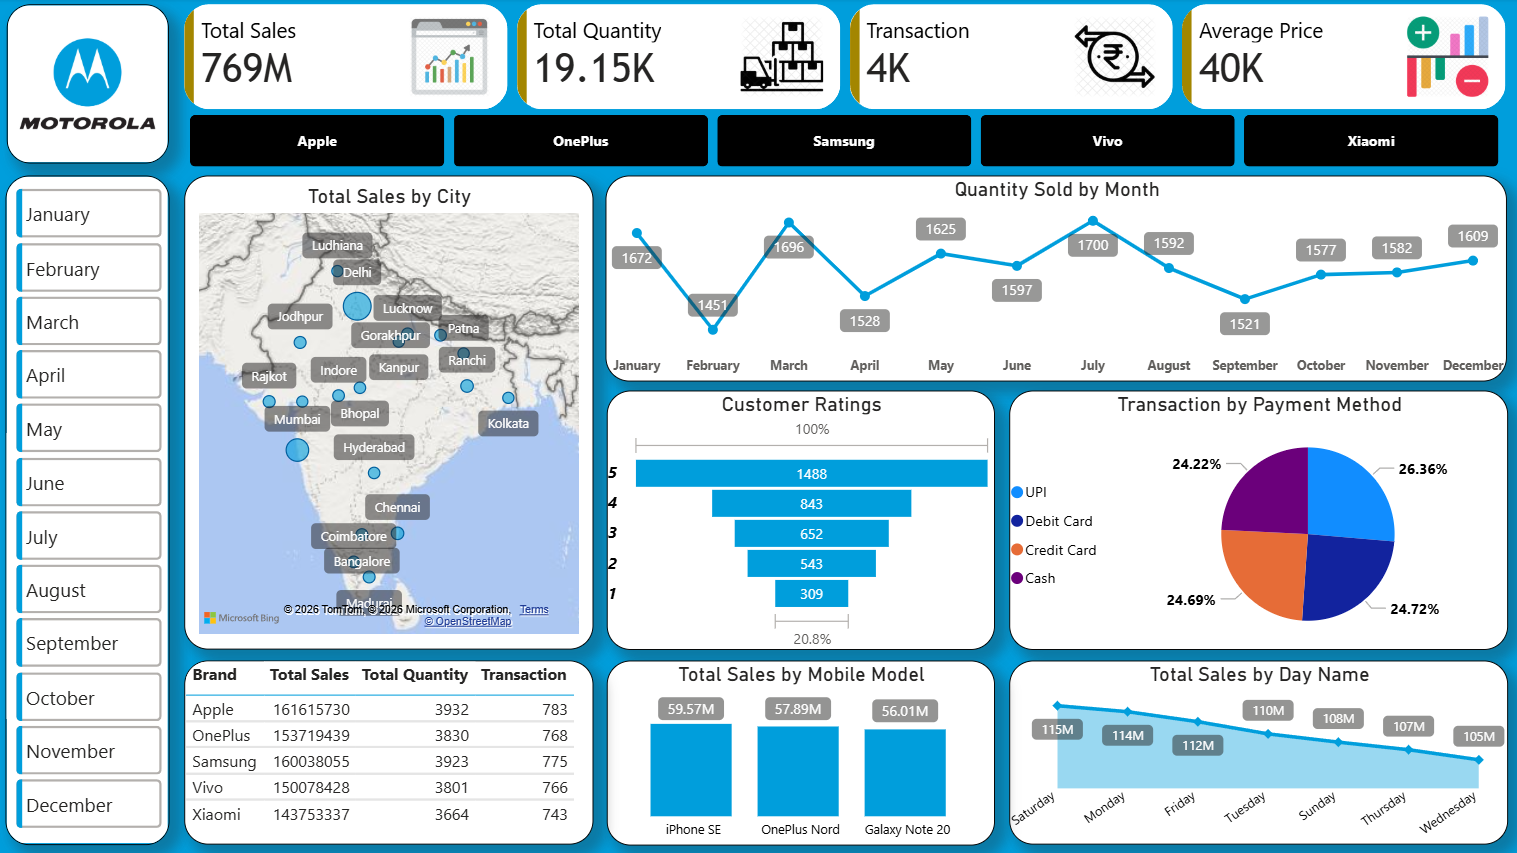

This screenshot's page, from the dashboard's own definition file:
{"tool":"powerbi","page":{"name":"Page 1","canvas":[1280,720],"ordinal":0},"visuals":[{"type":"shape","box":[7.5,5,136.2,133.8],"z":0},{"type":"image","box":[15.1,9.3,118.6,125.6],"z":1000},{"type":"shape","box":[6.2,148.8,137.5,561.2],"z":2000},{"type":"cardVisual","fields":{"Data":["MOBILE SALES DATA.Total Sales","MOBILE SALES DATA.Total Quantity","MOBILE SALES DATA.Transaction","Avg(MOBILE SALES DATA.Price Per Unit)"]},"box":[156.2,5,1110,88.8],"z":3000},{"type":"advancedSlicerVisual","fields":{"Values":["MOBILE SALES DATA.Date.Variation.Date Hierarchy.Month"]},"box":[10,155,132.5,550],"z":4000},{"type":"map","fields":{"Category":["MOBILE SALES DATA.City"],"Size":["MOBILE SALES DATA.Total Sales"]},"box":[155.8,148.8,343,397.7],"z":5000},{"type":"lineChart","title":" Quantity Sold by Month","fields":{"Y":["Sum(MOBILE SALES DATA.Units Sold)"],"Category":["MOBILE SALES DATA.Date.Variation.Date Hierarchy.Month","MOBILE SALES DATA.Date.Variation.Date Hierarchy.Day"]},"box":[510,148.8,756.2,172.5],"z":6000},{"type":"funnel","title":"Customer Ratings","fields":{"Y":["CountNonNull(MOBILE SALES DATA.Customer Ratings)"],"Category":["MOBILE SALES DATA.Customer Ratings"]},"box":[510.5,329.1,325.6,217.4],"z":7000},{"type":"pieChart","fields":{"Category":["MOBILE SALES DATA.Payment Method"],"Y":["MOBILE SALES DATA.Transaction"]},"box":[847.7,329.1,418.6,217.4],"z":8000},{"type":"areaChart","fields":{"Y":["MOBILE SALES DATA.Total Sales"],"Category":["MOBILE SALES DATA.Day Name"]},"box":[847.7,555.8,418.6,154.7],"z":9000},{"type":"clusteredColumnChart","fields":{"Category":["MOBILE SALES DATA.Mobile Model"],"Y":["MOBILE SALES DATA.Total Sales"]},"box":[510.5,555.7,325.2,155.1],"z":10000},{"type":"tableEx","fields":{"Values":["MOBILE SALES DATA.Brand","MOBILE SALES DATA.Total Sales","MOBILE SALES DATA.Total Quantity","MOBILE SALES DATA.Transaction"]},"box":[155.8,555.8,343,154.7],"z":11000},{"type":"advancedSlicerVisual","fields":{"Values":["MOBILE SALES DATA.Brand"]},"box":[155.8,93,1110.5,53.5],"z":12000}]}

Visuals, with their boxes in screenshot pixels (x1, y1, x2, y2), scaled from the page's 1280x720 canvas onto the 1517x853 screenshot:
shape: l=9, t=6, r=170, b=164
image: l=18, t=11, r=158, b=160
shape: l=7, t=176, r=170, b=841
cardVisual - MOBILE SALES DATA.Total Sales x MOBILE SALES DATA.Total Quantity: l=185, t=6, r=1501, b=111
advancedSlicerVisual - MOBILE SALES DATA.Date.Variation.Date Hierarchy.Month: l=12, t=184, r=169, b=835
map - MOBILE SALES DATA.City x MOBILE SALES DATA.Total Sales: l=185, t=176, r=591, b=647
" Quantity Sold by Month" lineChart: l=604, t=176, r=1501, b=381
"Customer Ratings" funnel: l=605, t=390, r=991, b=647
pieChart - MOBILE SALES DATA.Payment Method x MOBILE SALES DATA.Transaction: l=1005, t=390, r=1501, b=647
areaChart - MOBILE SALES DATA.Total Sales x MOBILE SALES DATA.Day Name: l=1005, t=658, r=1501, b=842
clusteredColumnChart - MOBILE SALES DATA.Mobile Model x MOBILE SALES DATA.Total Sales: l=605, t=658, r=990, b=842
tableEx - MOBILE SALES DATA.Brand x MOBILE SALES DATA.Total Sales: l=185, t=658, r=591, b=842
advancedSlicerVisual - MOBILE SALES DATA.Brand: l=185, t=110, r=1501, b=174
